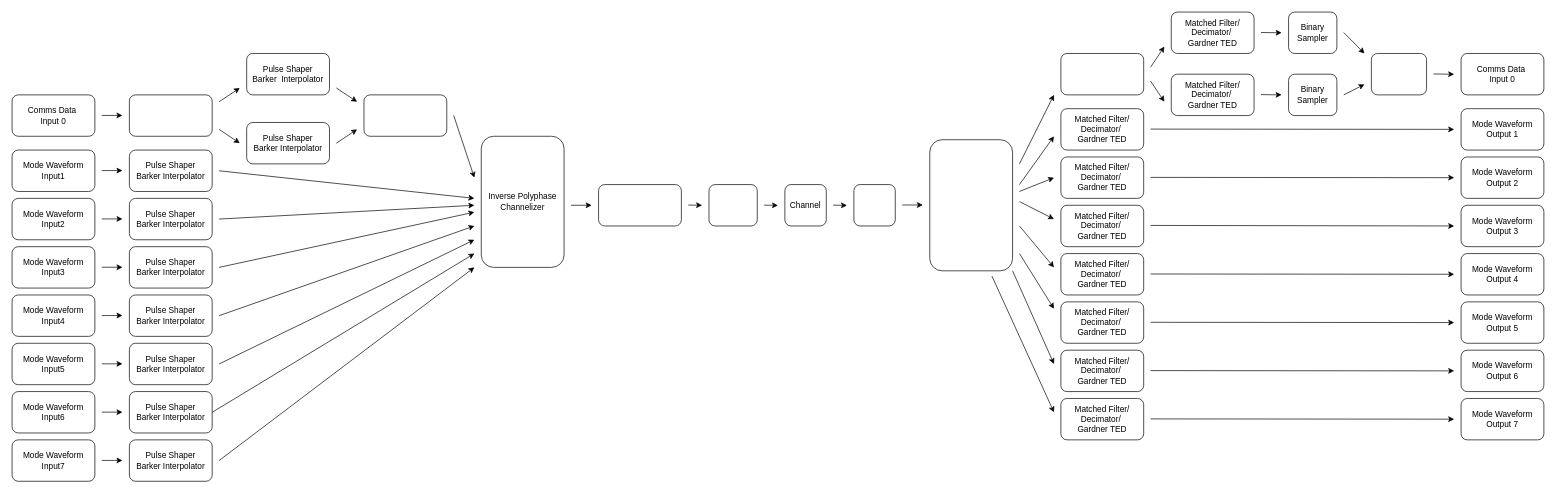
The diagram is 1556 pixels wide and 493 high, and some of its shapes have lost their labels. The shapes that lost their labels are listed below. From the top down, each one's centre as x and y in pixels, then its label:
the point at 1102,74: IQ Splitter
the point at 1399,74: Constellation Decoder
the point at 170,115: Constellation Mapper
the point at 405,115: IQ Mixer
the point at 639,205: DAC/Amplifier
the point at 732,205: Antenna
the point at 874,205: ADC
the point at 971,205: Polyphase Channelizer
